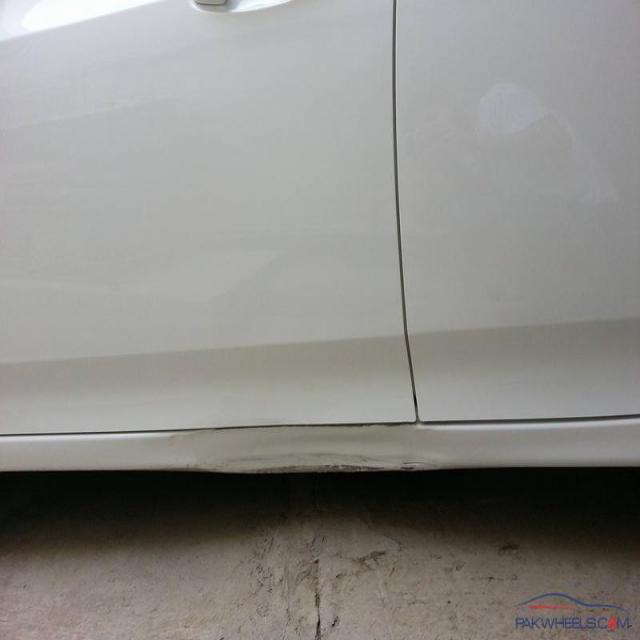side_panel_damage: (103, 409, 487, 494)
